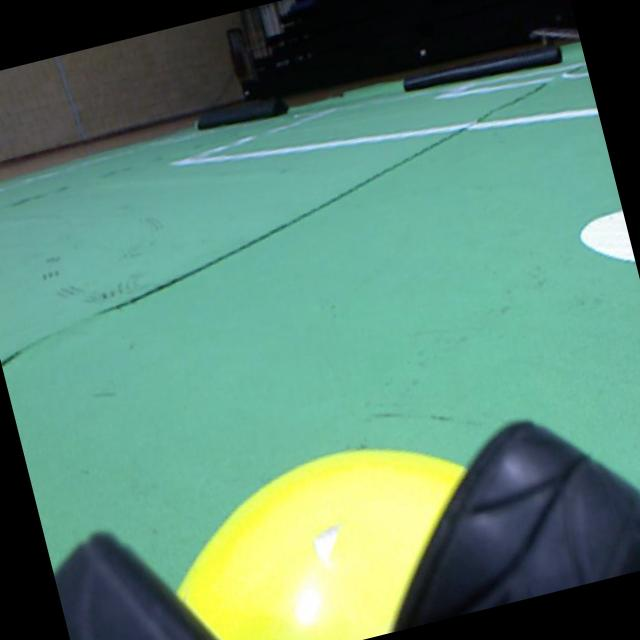ball: (176, 449, 465, 640)
